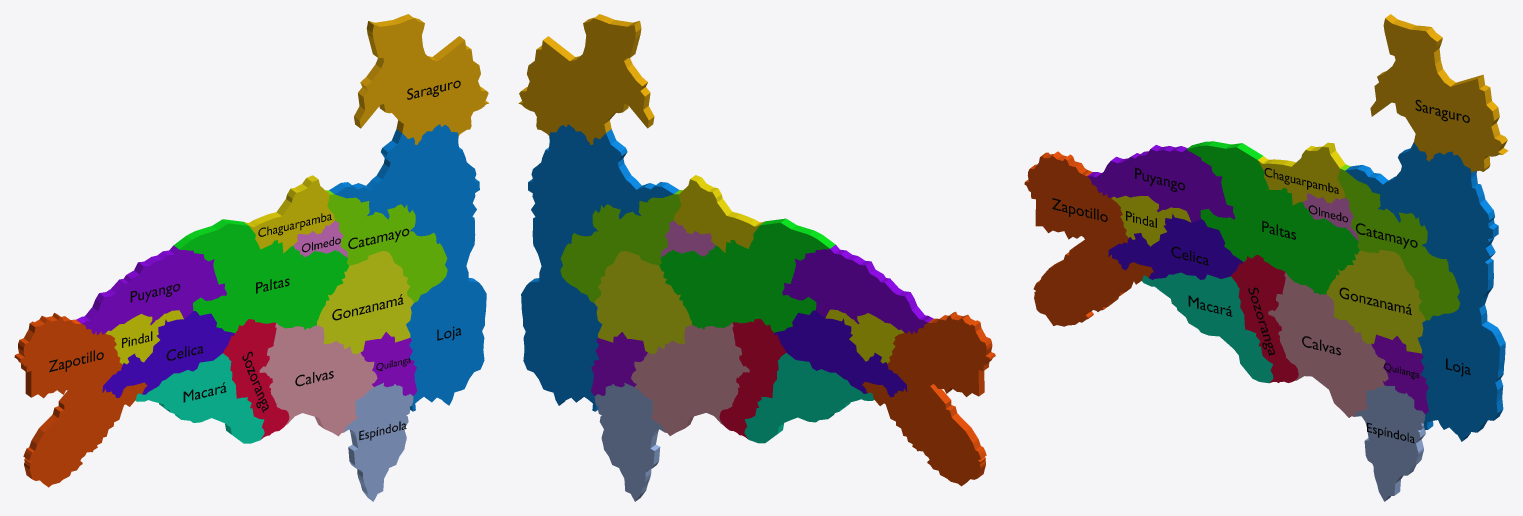
File: loja1.glb
3 renders of one model, left to right at view 1: azimuth 30°, elevation 25°; view 2: azimuth 150°, elevation 25°; view 3: azimuth 330°, elevation 25°, orthographic.
Parts seen in each view (by area): view 1: loja, zapotillo, paltas, saraguro, calvas, pindal.001, gonzanama, catamayo, macara, espindola, celica, sozoranga (+4 smaller); view 2: loja, zapotillo, paltas, saraguro, calvas, pindal.001, gonzanama, catamayo, macara, espindola, celica, sozoranga (+4 smaller); view 3: loja, zapotillo, paltas, saraguro, calvas, gonzanama, catamayo, pindal.001, macara, espindola, celica, sozoranga (+4 smaller).
Part boxes in pixels (x1,y1,x2,y2): loja: (329, 124, 486, 411); zapotillo: (14, 313, 146, 487); paltas: (173, 219, 349, 332); saraguro: (354, 14, 488, 144); calvas: (259, 323, 377, 436); pindal.001: (76, 245, 226, 335); gonzanama: (317, 251, 413, 354); catamayo: (325, 190, 447, 302); macara: (135, 353, 264, 443); espindola: (344, 383, 413, 501); celica: (102, 311, 234, 397); sozoranga: (223, 319, 289, 439); loja: (521, 124, 678, 411); zapotillo: (862, 311, 995, 486); paltas: (659, 218, 835, 332); saraguro: (518, 14, 654, 144); calvas: (631, 322, 749, 435); pindal.001: (782, 244, 933, 333); gonzanama: (594, 251, 691, 354); catamayo: (560, 190, 682, 302); macara: (744, 352, 874, 443); espindola: (594, 383, 664, 501); celica: (774, 310, 907, 397); sozoranga: (719, 318, 786, 438); loja: (1345, 142, 1505, 441); zapotillo: (1024, 151, 1153, 326); paltas: (1187, 141, 1359, 294); saraguro: (1370, 14, 1508, 172); calvas: (1268, 272, 1388, 417); gonzanama: (1326, 250, 1425, 353); catamayo: (1337, 164, 1459, 320); pindal.001: (1087, 145, 1235, 222); macara: (1142, 272, 1273, 383); espindola: (1354, 385, 1425, 501); celica: (1108, 213, 1243, 279); sozoranga: (1231, 254, 1298, 382).
Bounding box in the file's own units: 9.55 × 9.25 × 0.2664.
